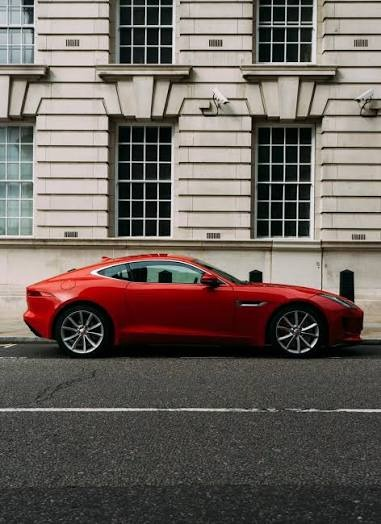car: (26, 241, 364, 363)
